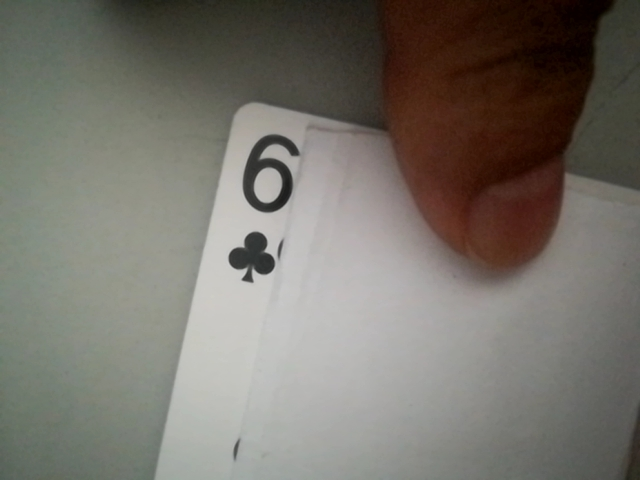mh 6: (223, 123, 313, 286)
